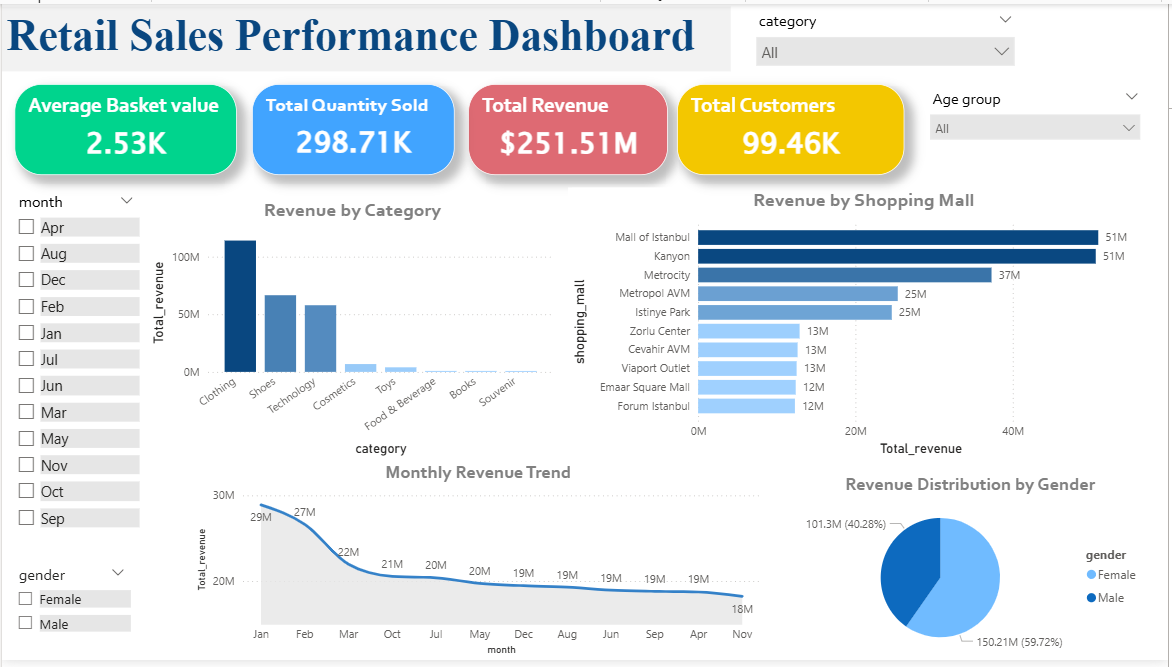

Layout of this report page (visuals, bound fields, positions):
{"tool":"powerbi","page":{"name":"Page 1","canvas":[1280,720],"ordinal":0},"visuals":[{"type":"card","title":"Total Revenue","fields":{"Values":["Table1.total_sales"]},"box":[511.8,87.8,219.6,100.2],"z":0},{"type":"card","title":"Total Quantity Sold","fields":{"Values":["Table1.total_quantity"]},"box":[274.4,87.8,222.3,100.2],"z":1000},{"type":"slicer","title":"Revenue by category","fields":{"Values":["Table1.gender"]},"box":[5.5,610.6,141.3,96.1],"z":2000},{"type":"clusteredBarChart","title":"Revenue by Shopping Mall","fields":{"Category":["Table1.shopping_mall"],"Y":["Table1.Total_revenue"]},"box":[621.6,201.7,649.1,299.1],"z":3000},{"type":"lineChart","title":"Monthly Revenue Trend","fields":{"Category":["Table1.month"],"Y":["Table1.Total_revenue"]},"box":[208.6,500.9,628.5,219.6],"z":4000},{"type":"pieChart","title":"Revenue Distribution by Gender","fields":{"Category":["Table1.gender"],"Y":["Table1.Total_revenue"]},"box":[865.9,514.6,393.8,205.8],"z":5000},{"type":"slicer","title":"Revenue by age group","fields":{"Values":["Table1.month"]},"box":[5.5,201.7,150.9,391.1],"z":6000},{"type":"slicer","fields":{"Values":["Table1.category"]},"box":[817.8,2.7,303.3,71.4],"z":7000},{"type":"slicer","fields":{"Values":["Table1.age_group"]},"box":[1008.6,87.8,251.1,75.5],"z":8000},{"type":"clusteredColumnChart","title":"Revenue by Category ","fields":{"Category":["Table1.category"],"Y":["Table1.Total_revenue"]},"box":[159.2,212.7,451.5,288.2],"z":9000},{"type":"textbox","box":[0,2.7,800,71.4],"z":10000},{"type":"card","title":"Average Basket value","fields":{"Values":["Table1.avg_order_value"]},"box":[13.7,87.8,244.3,100.2],"z":11000},{"type":"card","title":"Total Customers","fields":{"Values":["Table1.totalcustomers"]},"box":[741,87.8,249.7,100.2],"z":12000}]}

Visuals, with their boxes in screenshot pixels (x1, y1, x2, y2), scaled from the page's 1280x720 canvas onto the 1172x667 screenshot:
"Total Revenue" card: [left=469, top=81, right=670, bottom=174]
"Total Quantity Sold" card: [left=251, top=81, right=455, bottom=174]
"Revenue by category" slicer: [left=5, top=566, right=134, bottom=655]
"Revenue by Shopping Mall" clusteredBarChart: [left=569, top=187, right=1163, bottom=464]
"Monthly Revenue Trend" lineChart: [left=191, top=464, right=766, bottom=666]
"Revenue Distribution by Gender" pieChart: [left=793, top=477, right=1153, bottom=666]
"Revenue by age group" slicer: [left=5, top=187, right=143, bottom=549]
slicer - Table1.category: [left=749, top=3, right=1027, bottom=69]
slicer - Table1.age_group: [left=923, top=81, right=1153, bottom=151]
"Revenue by Category " clusteredColumnChart: [left=146, top=197, right=559, bottom=464]
textbox: [left=0, top=3, right=732, bottom=69]
"Average Basket value" card: [left=13, top=81, right=236, bottom=174]
"Total Customers" card: [left=678, top=81, right=907, bottom=174]
